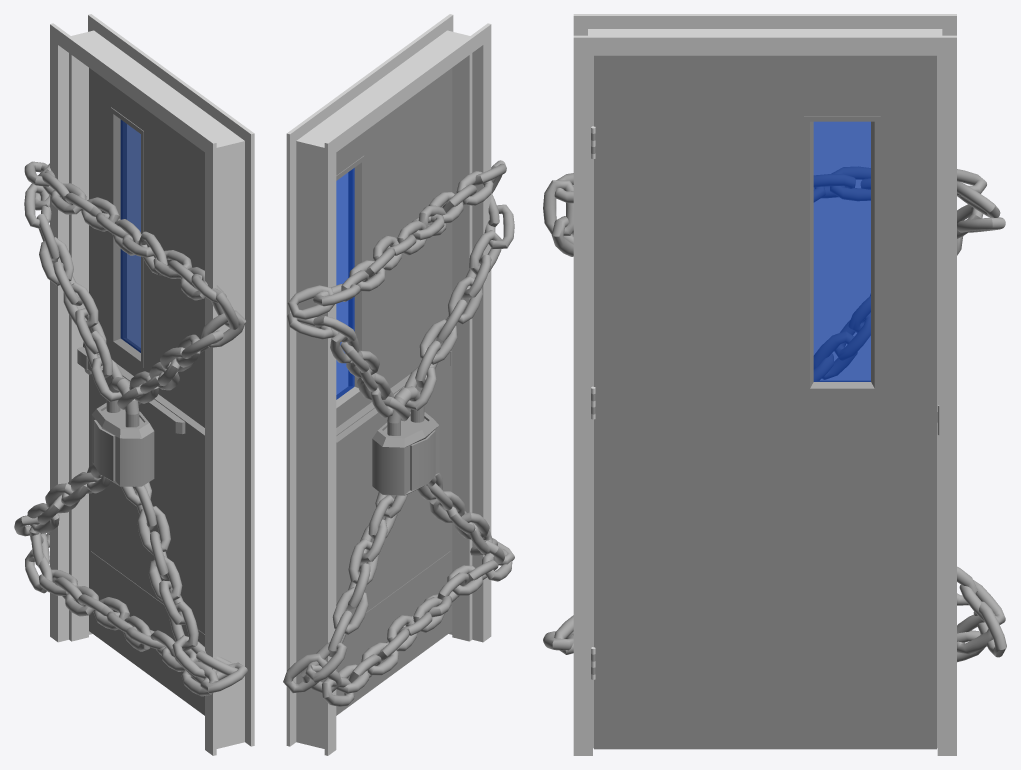
Rendered from LN_SM_DoorWithChainz.fbx.
3 renders of one model, left to right at view 1: azimuth 30°, elevation 25°; view 2: azimuth 150°, elevation 25°; view 3: azimuth 270°, elevation 25°, orthographic. The views are drawn at different scales.
Parts seen in each view (by area): view 1: frame_005, door_005, chainz, kick_plate_005, push_socket_005, push_bar_005; view 2: frame_005, door_005, chainz, kick_plate_005, push_bar_005, push_socket_005; view 3: door_005, frame_005, chainz.
Boxes of the visible parts, box(x1,y1,x2,y2) form: frame_005: box(50, 14, 254, 755); door_005: box(89, 68, 204, 715); chainz: box(14, 161, 247, 696); kick_plate_005: box(91, 551, 204, 708); push_socket_005: box(77, 342, 204, 448); push_bar_005: box(87, 359, 185, 434); frame_005: box(286, 14, 491, 755); door_005: box(336, 68, 452, 715); chainz: box(283, 160, 514, 706); kick_plate_005: box(336, 551, 450, 708); push_bar_005: box(336, 385, 422, 453); push_socket_005: box(336, 351, 451, 456); door_005: box(591, 55, 936, 749); frame_005: box(573, 14, 956, 755); chainz: box(543, 167, 1006, 662).
Bounding box in the file's own units: 25.19 × 210 × 123.
